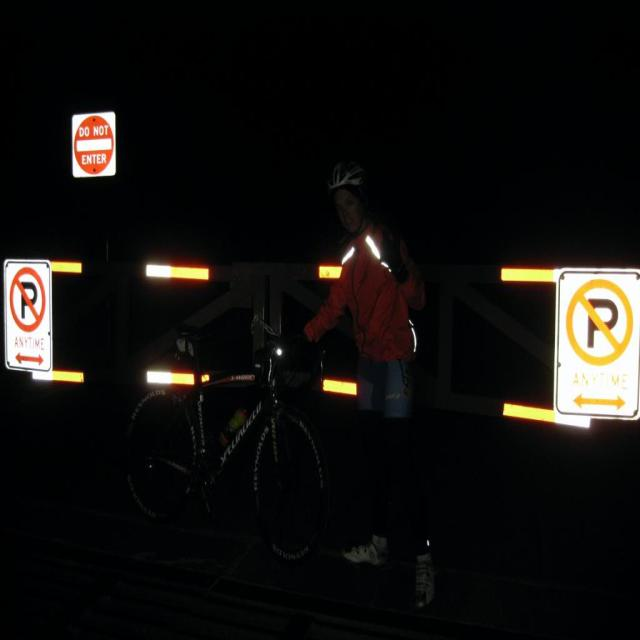Bicycle: (125, 346, 327, 560)
People: (279, 128, 502, 369)
